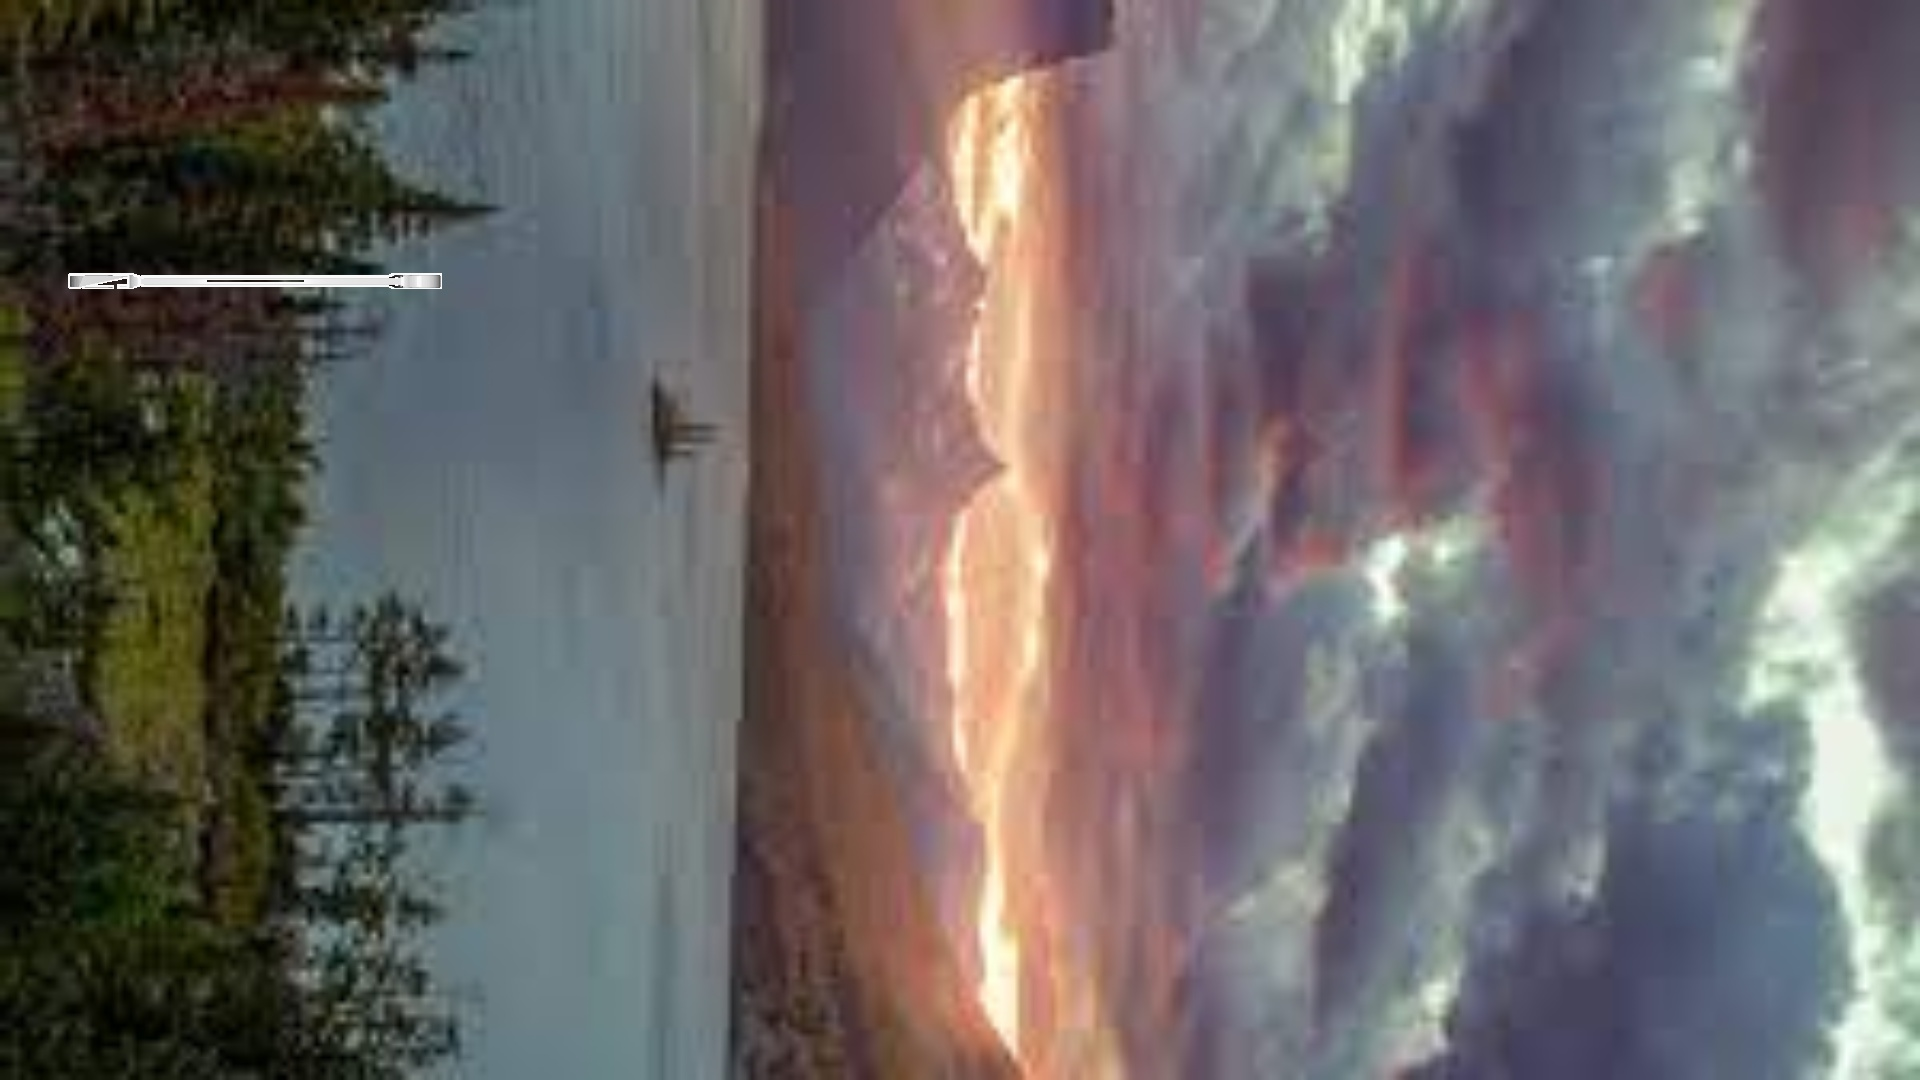Mixed Key: (69, 273, 440, 287)
